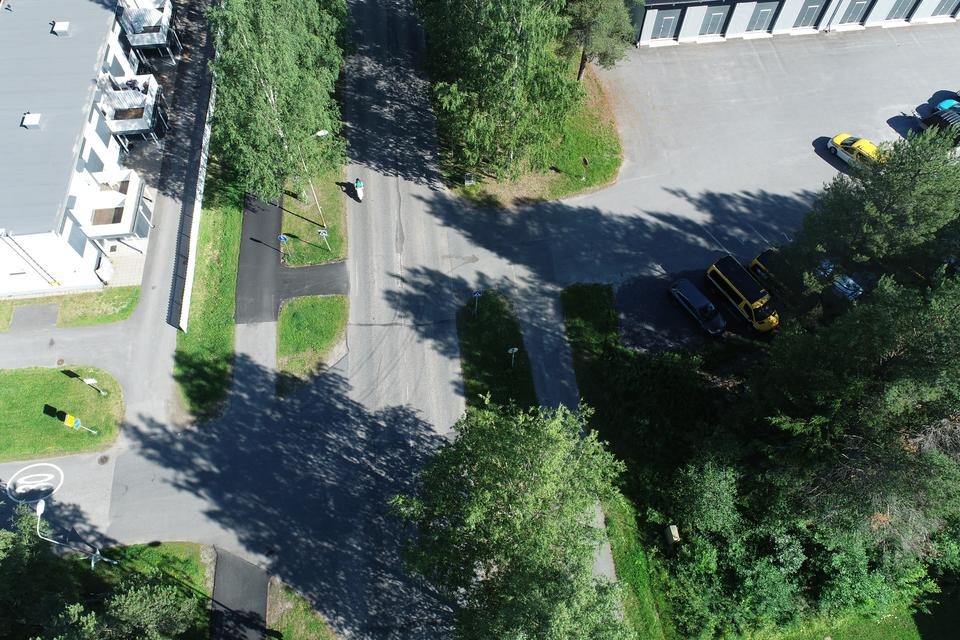intersection: (183, 373, 359, 592), (215, 236, 328, 326)
